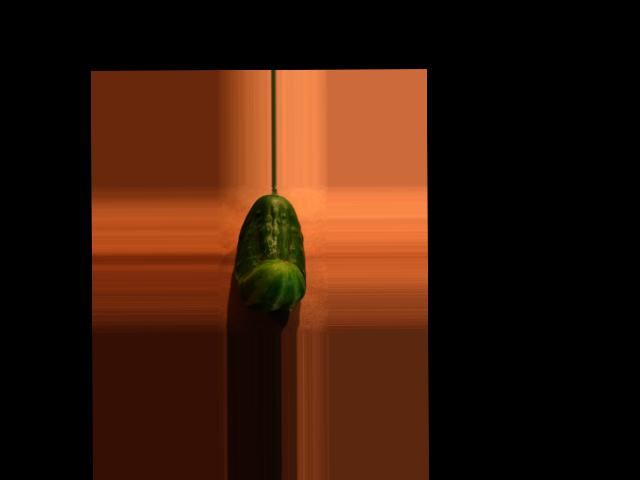cucumber: (234, 194, 307, 311)
